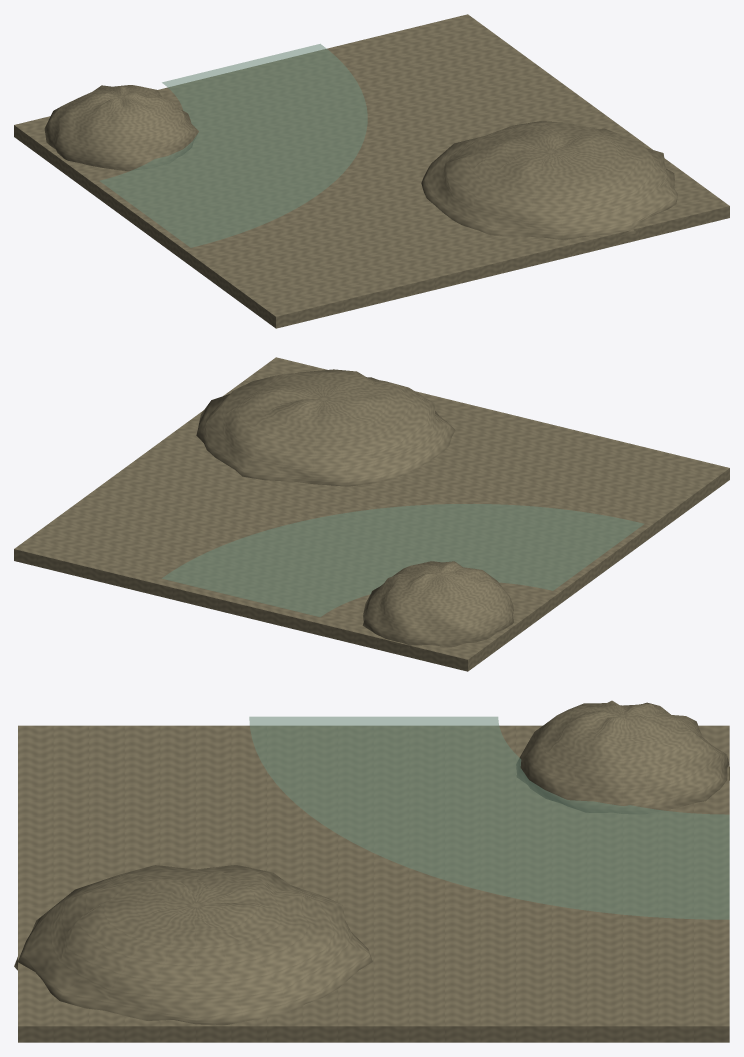
File: swamp_channel_bend_swamp_and_mangrove_22645.glb
The picture shows the model from 3 angles, top to bottom: view 1: azimuth 30°, elevation 25°; view 2: azimuth 150°, elevation 25°; view 3: azimuth 270°, elevation 25°; orthographic projection. The views are drawn at different scales.
Parts seen in each view (by area): view 1: channel-bend; view 2: channel-bend; view 3: channel-bend.
Part boxes in pixels (x1,y1,x2,y2): channel-bend: (14,14,729,328); channel-bend: (14,357,729,671); channel-bend: (14,700,729,1042).
Size of the model in its own units: 4 by 0.4697 by 4.03.
2 materials, 1 textured.
